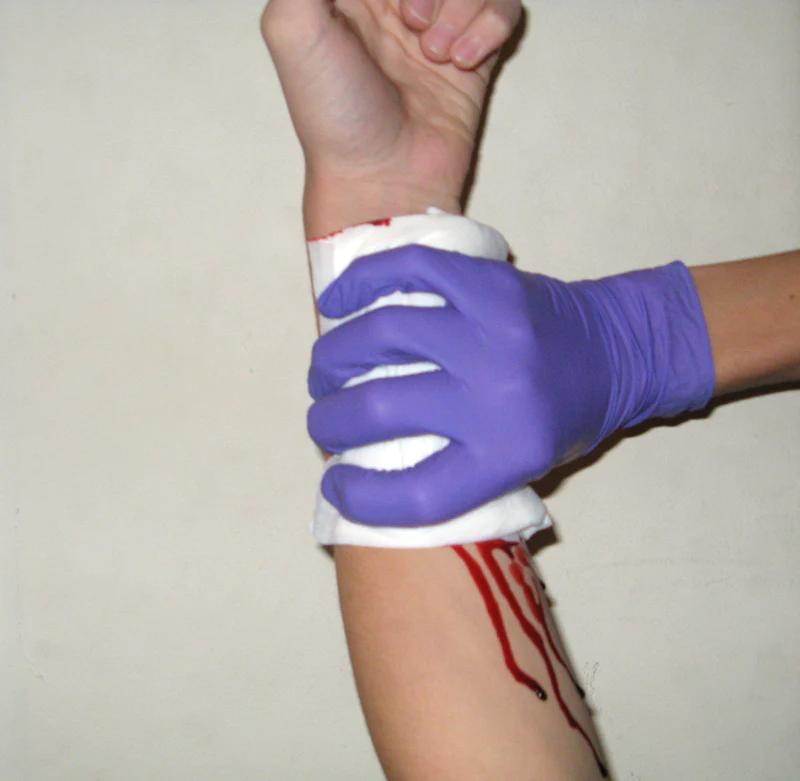gauze: (307, 209, 553, 546)
